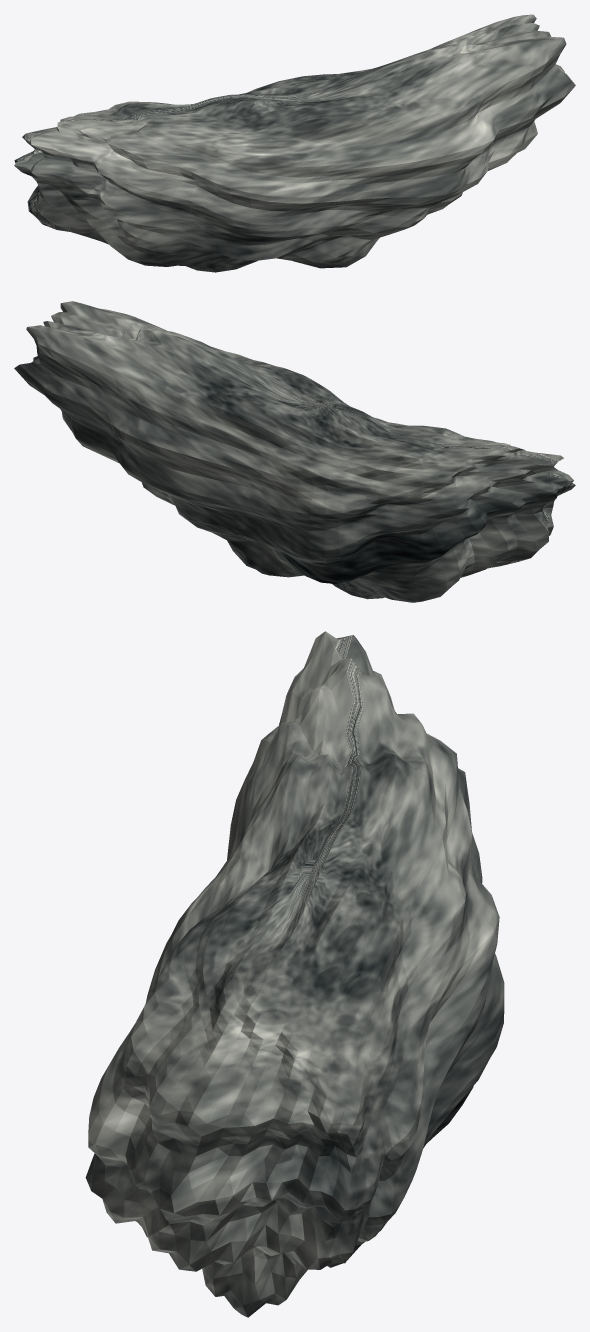
File: bent.glb
3 views of the same model, one above another, from view 1: azimuth 30°, elevation 25°; view 2: azimuth 150°, elevation 25°; view 3: azimuth 270°, elevation 25° (orthographic). The views are drawn at different scales.
Parts seen in each view (by area): view 1: rock; view 2: rock; view 3: rock.
Boxes of the visible parts, x1,y1,x2,y2 form: rock: (14,14,575,272); rock: (14,301,575,602); rock: (85,631,504,1317).
Size of the model in its own units: 33.01 by 11.05 by 11.31.
Materials: 1 (1 with a texture image).
